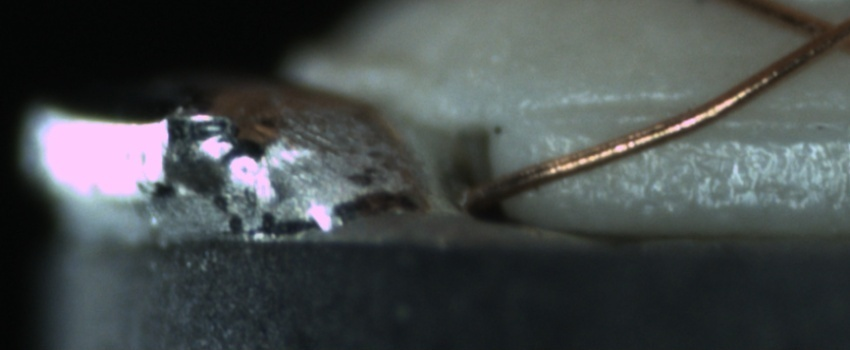CL: (779, 3, 848, 64)
DL: (531, 84, 844, 152)
